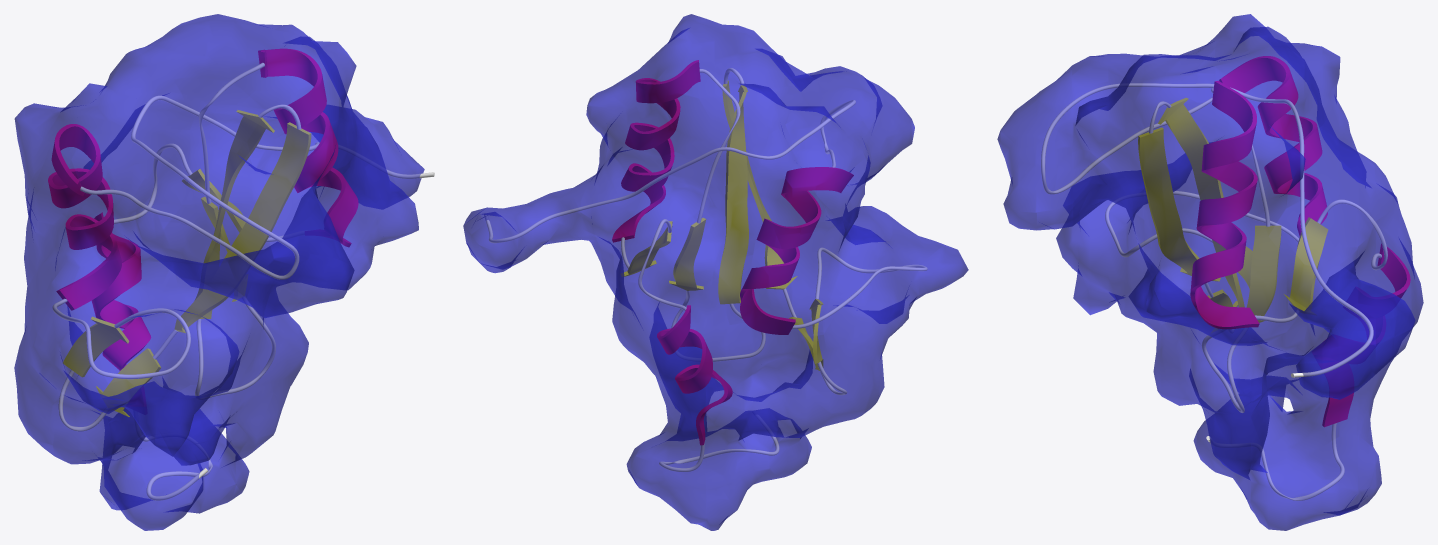
File: blnk.fbx
3 views of the same model, side by side, from view 1: azimuth 30°, elevation 25°; view 2: azimuth 150°, elevation 25°; view 3: azimuth 270°, elevation 25° (orthographic). The views are drawn at different scales.
Visible parts, largest first — view 1: CoarseMS_2eo6, 2eo6_A_Helix3, 2eo6_A_Helix2, 2eo6_A_Strand4, 2eo6_A_Helix1, 2eo6_A_Coil10, 2eo6_A_Strand3, 2eo6_A_Strand6, 2eo6_A_Coil9, 2eo6_A_Strand5, 2eo6_A_Coil5, 2eo6_A_Coil4 (+3 smaller); view 2: CoarseMS_2eo6, 2eo6_A_Helix3, 2eo6_A_Helix2, 2eo6_A_Strand3, 2eo6_A_Helix1, 2eo6_A_Coil10, 2eo6_A_Strand2, 2eo6_A_Coil9, 2eo6_A_Strand4, 2eo6_A_Coil1, 2eo6_A_Strand1, 2eo6_A_Coil4; view 3: CoarseMS_2eo6, 2eo6_A_Helix2, 2eo6_A_Helix3, 2eo6_A_Strand4, 2eo6_A_Coil10, 2eo6_A_Strand3, 2eo6_A_Strand2, 2eo6_A_Strand1, 2eo6_A_Helix1, 2eo6_A_Coil9, 2eo6_A_Coil1, 2eo6_A_Coil5 (+1 smaller).
Boxes of the visible parts, <box> form: CoarseMS_2eo6: <box>14,14,424,530</box>; 2eo6_A_Helix3: <box>48,124,121,310</box>; 2eo6_A_Helix2: <box>258,48,358,247</box>; 2eo6_A_Strand4: <box>174,122,311,332</box>; 2eo6_A_Helix1: <box>92,212,150,370</box>; 2eo6_A_Coil10: <box>80,95,434,279</box>; 2eo6_A_Strand3: <box>194,110,274,318</box>; 2eo6_A_Strand6: <box>62,316,128,377</box>; 2eo6_A_Coil9: <box>52,299,190,379</box>; 2eo6_A_Strand5: <box>96,348,160,416</box>; 2eo6_A_Coil5: <box>195,304,275,397</box>; 2eo6_A_Coil4: <box>199,63,264,203</box>; CoarseMS_2eo6: <box>463,14,968,530</box>; 2eo6_A_Helix3: <box>740,167,853,334</box>; 2eo6_A_Helix2: <box>612,60,700,242</box>; 2eo6_A_Strand3: <box>718,85,748,304</box>; 2eo6_A_Helix1: <box>657,305,732,445</box>; 2eo6_A_Coil10: <box>484,100,855,243</box>; 2eo6_A_Strand2: <box>669,218,706,290</box>; 2eo6_A_Coil9: <box>792,247,927,328</box>; 2eo6_A_Strand4: <box>722,80,797,289</box>; 2eo6_A_Coil1: <box>659,436,779,471</box>; 2eo6_A_Strand1: <box>624,221,672,276</box>; 2eo6_A_Coil4: <box>697,69,740,223</box>; CoarseMS_2eo6: <box>997,14,1423,530</box>; 2eo6_A_Helix2: <box>1190,81,1259,329</box>; 2eo6_A_Helix3: <box>1219,56,1327,236</box>; 2eo6_A_Strand4: <box>1138,127,1220,281</box>; 2eo6_A_Coil10: <box>1041,83,1373,377</box>; 2eo6_A_Strand3: <box>1158,98,1244,307</box>; 2eo6_A_Strand2: <box>1247,225,1281,322</box>; 2eo6_A_Strand1: <box>1284,217,1327,311</box>; 2eo6_A_Helix1: <box>1322,243,1410,426</box>; 2eo6_A_Coil9: <box>1105,191,1298,257</box>; 2eo6_A_Coil1: <box>1206,423,1344,500</box>; 2eo6_A_Coil5: <box>1202,335,1244,412</box>.
Size of the model in its own units: 46.3 by 49.04 by 38.79.
